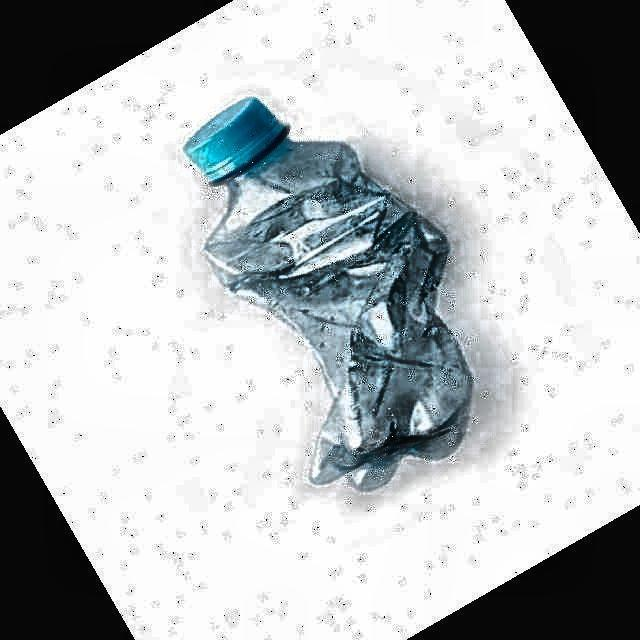plastic: (185, 98, 471, 489)
